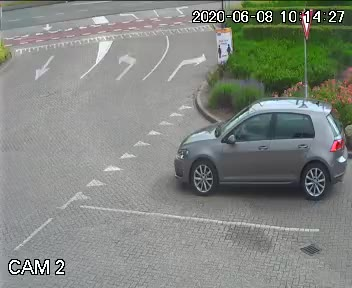car: (158, 86, 347, 232)
